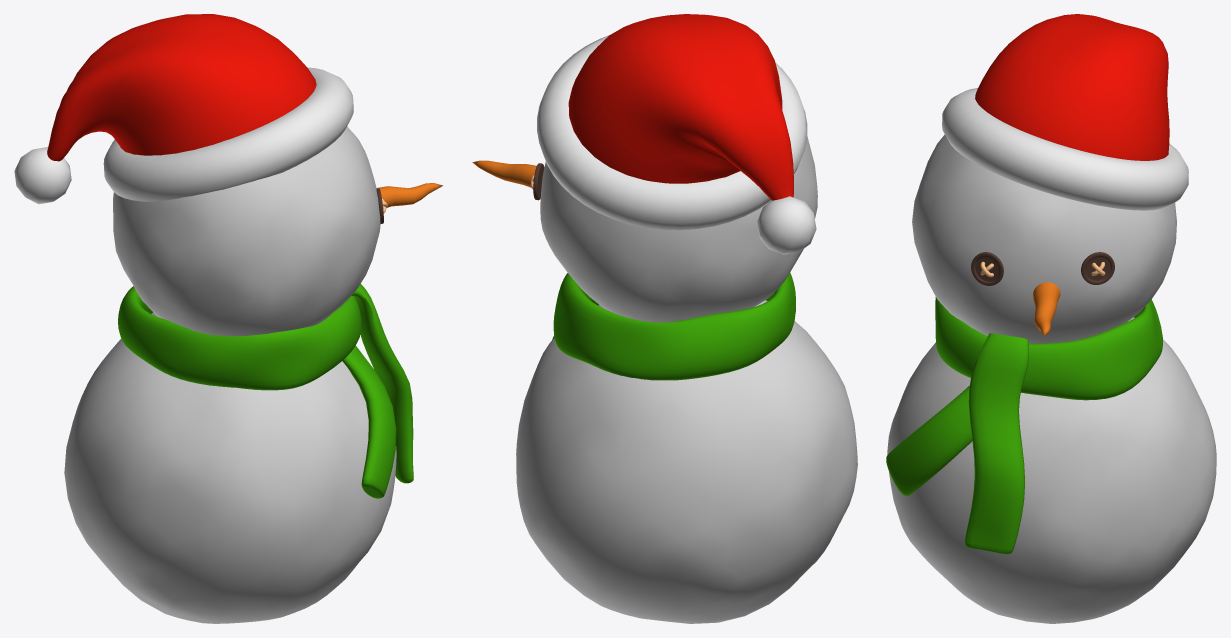
File: snowman.glb
The picture shows the model from 3 angles, left to right: view 1: azimuth 30°, elevation 25°; view 2: azimuth 150°, elevation 25°; view 3: azimuth 270°, elevation 25°; orthographic projection. The views are drawn at different scales.
Visible parts, largest first — view 1: body, hat, colorPart, nose; view 2: body, hat, colorPart, nose; view 3: body, hat, colorPart, eyes, nose.
Part boxes in pixels (x1,y1,x2,y2): body: (64, 126, 396, 623); hat: (14, 14, 353, 204); colorPart: (118, 284, 413, 498); nose: (376, 183, 442, 207); body: (516, 136, 857, 623); hat: (537, 14, 816, 254); colorPart: (552, 272, 795, 380); nose: (472, 160, 536, 187); body: (887, 134, 1216, 623); hat: (942, 14, 1188, 210); colorPart: (886, 297, 1162, 554); eyes: (971, 252, 1114, 285); nose: (1033, 282, 1060, 335).
Bounding box in the file's own units: 2.56 × 3.75 × 1.99.
